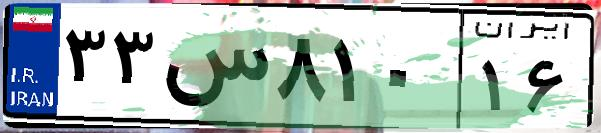0: (385, 28, 445, 110)
1: (330, 28, 385, 110), (475, 38, 525, 113)
3: (57, 26, 110, 100), (110, 28, 158, 98)
6: (525, 38, 570, 115)
8: (270, 28, 330, 110)
س: (158, 20, 270, 120)
